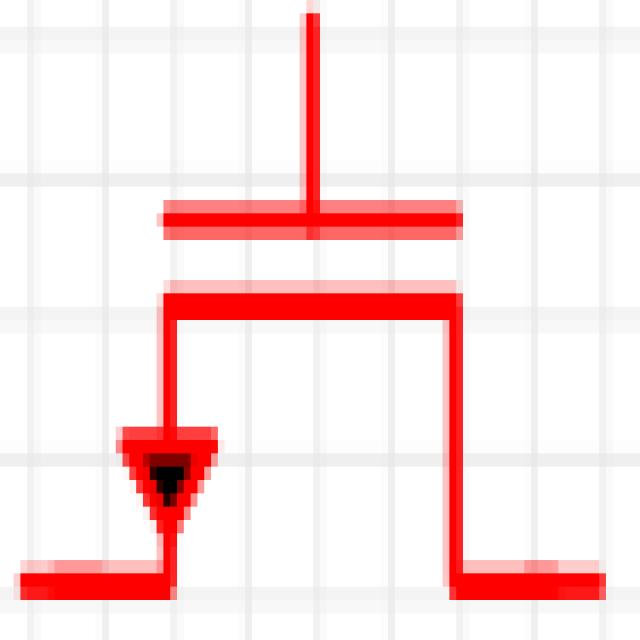nmos: (33, 24, 593, 640)
